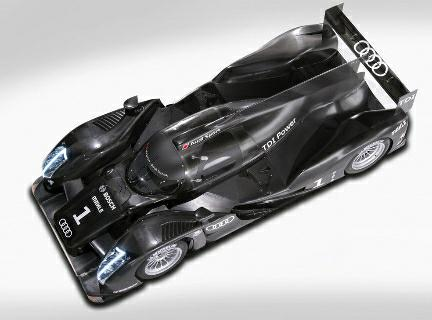奥迪-R18: (25, 2, 419, 308)
